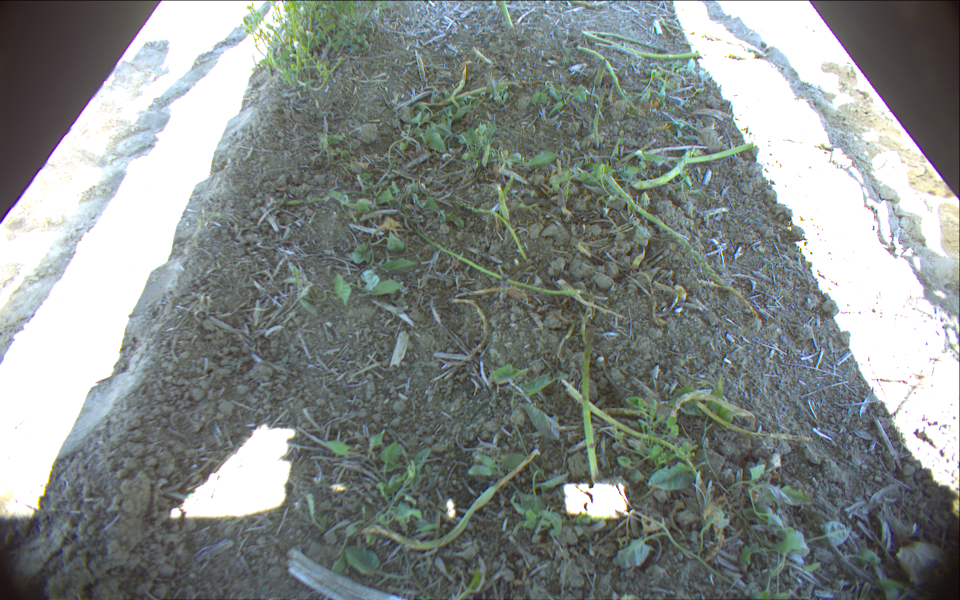aspa: (573, 321, 608, 492), (499, 1, 523, 32)
